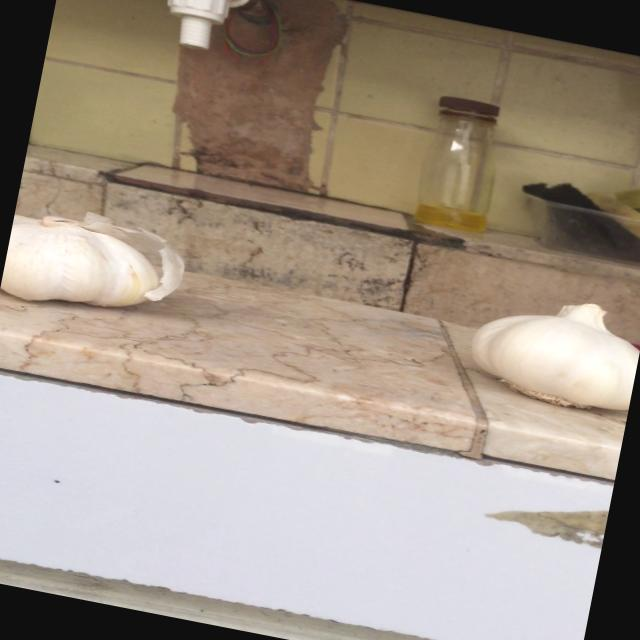bawang: (457, 278, 640, 421), (0, 200, 196, 330)
